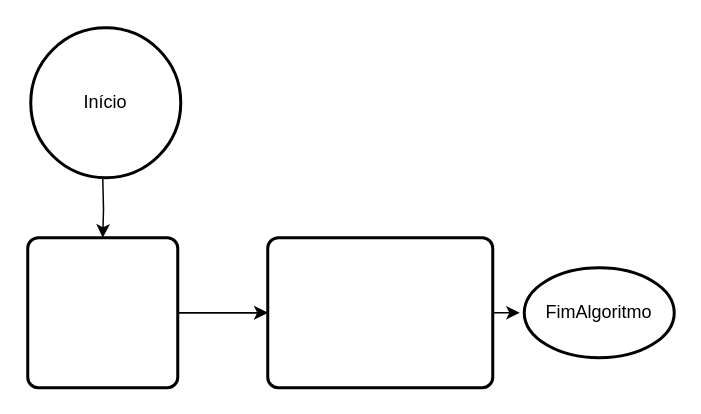
This 701x414 diagram has some shape labels left out. The box of each missing label's shape, as (x1, y1, x2, y2) in pixels:
escreva ("Seu nome é", " ", nome, " ", "e você tem", idade, " ", "anos."): (266, 236, 494, 388)
var nome: caractere idade : inteiro: (26, 236, 178, 388)
